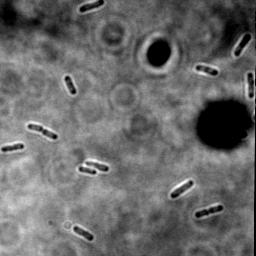Dividing: (25, 121, 59, 142), (193, 203, 225, 220)
Rod: (169, 179, 195, 200), (232, 32, 253, 58), (77, 0, 105, 14), (72, 225, 94, 242), (83, 160, 111, 173), (193, 63, 219, 77), (62, 74, 77, 97), (245, 71, 256, 99), (1, 142, 26, 153), (76, 165, 97, 177)
